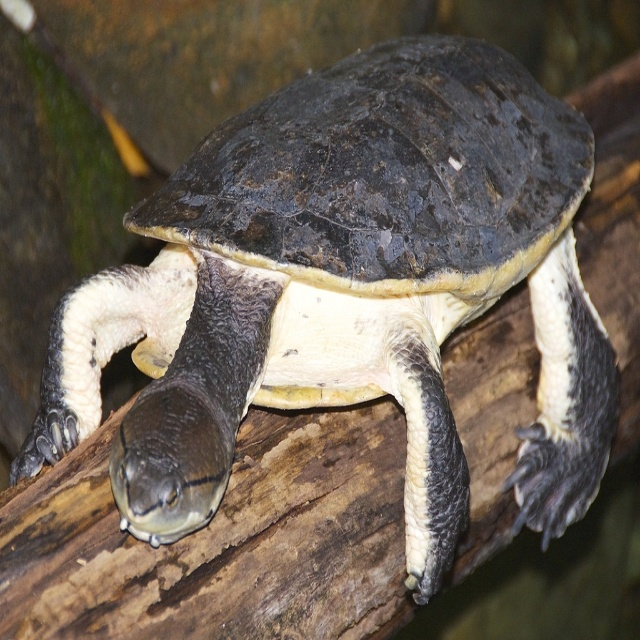Sea turtle: (6, 30, 624, 610)
